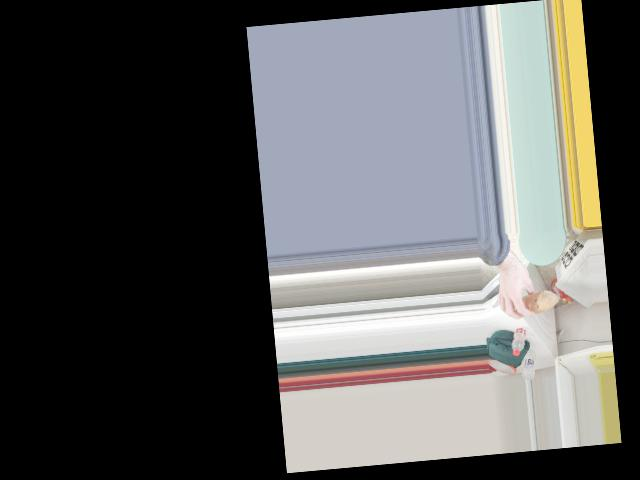sweet_potato: (517, 294, 551, 313)
